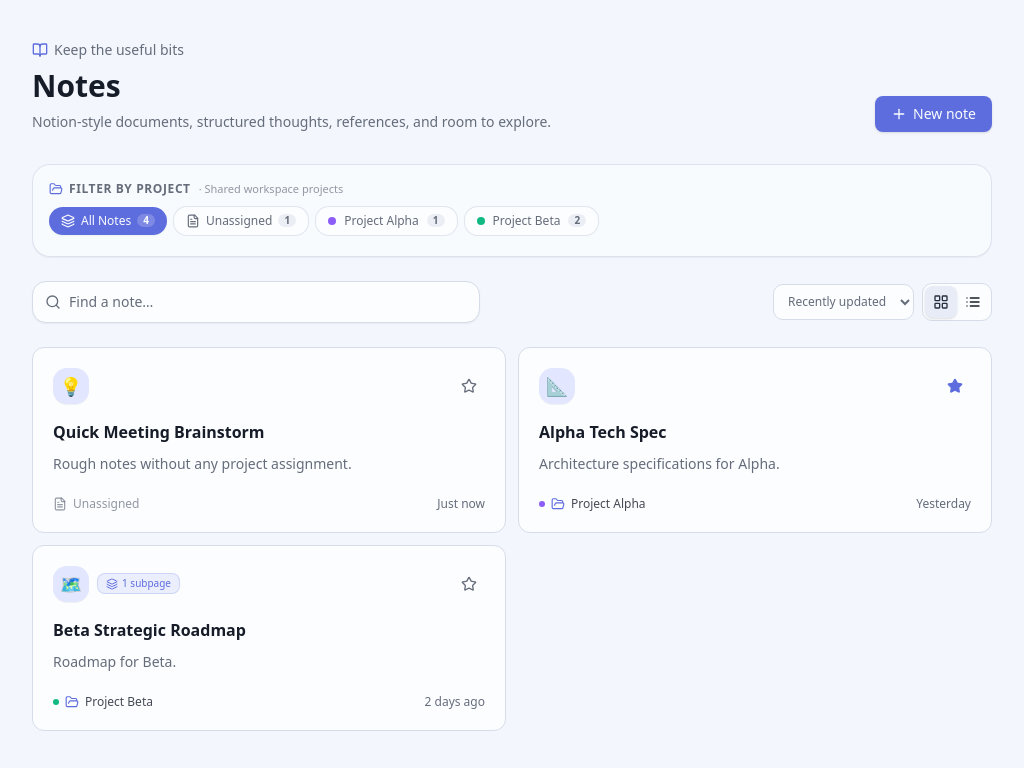
it: MindDesk Notes & Projects UX › creates a new note as Unassigned by default when no project is filtered
This screenshot has width=1024, height=768.
Check: the text "Filter by Project" is shown, box [69,181,191,197]
# Click "New note"
Click the button "New note" at (934, 114), box [875,96,992,132]
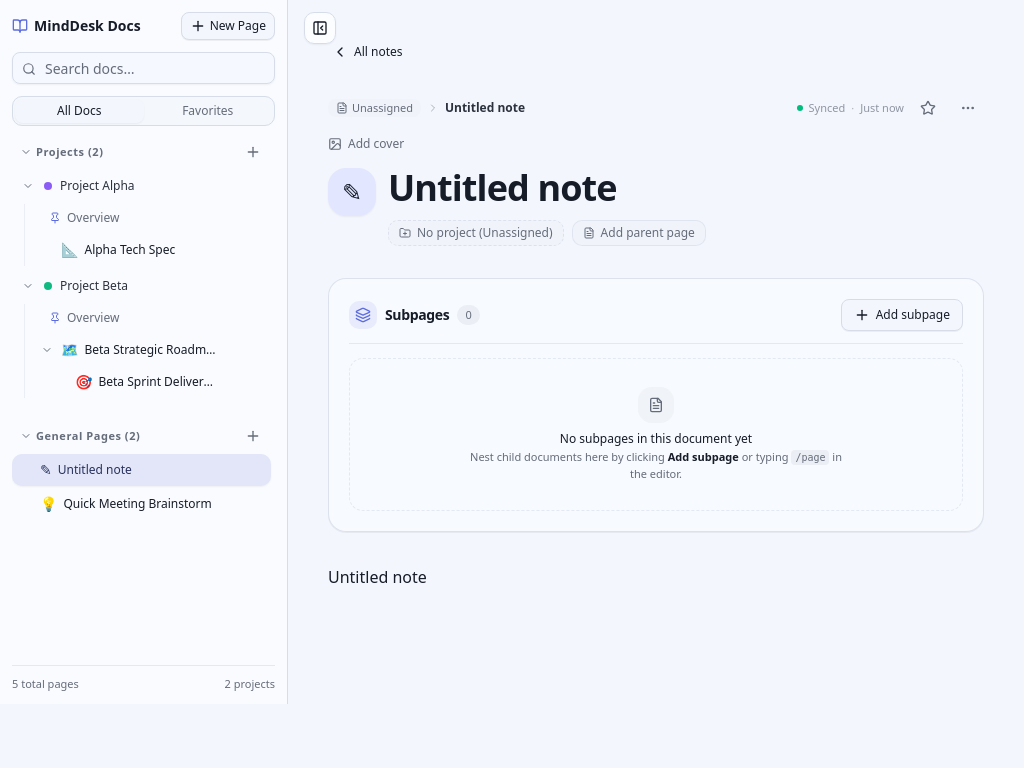
Check: the field showing "Untitled note" is shown, box [388,168,984,208]
Check: the button with aria-label "Project assignment" reads "No project (Unassigned)", box [388,220,564,246]
